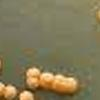orange: (51, 72, 79, 94), (38, 71, 54, 91), (24, 76, 40, 90), (6, 84, 18, 100), (19, 88, 35, 100), (25, 66, 40, 77), (0, 81, 8, 99), (0, 55, 4, 75)
